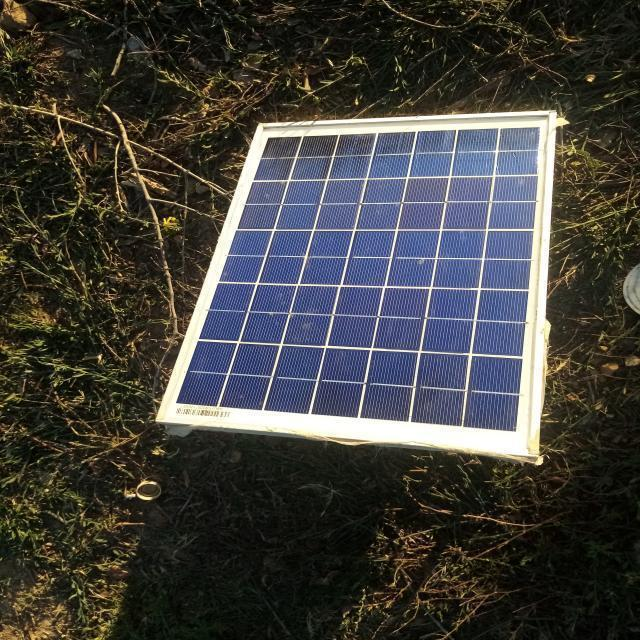Normal Solar Panel: (156, 117, 556, 452)
